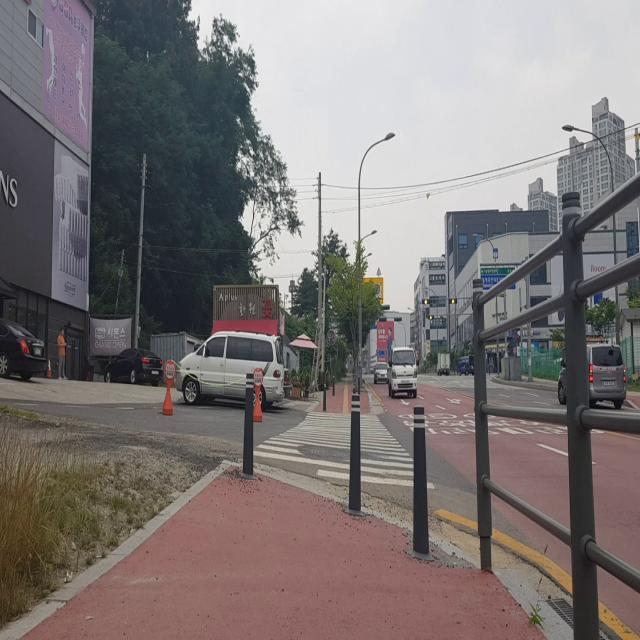횡단보도: (249, 410, 437, 491)
